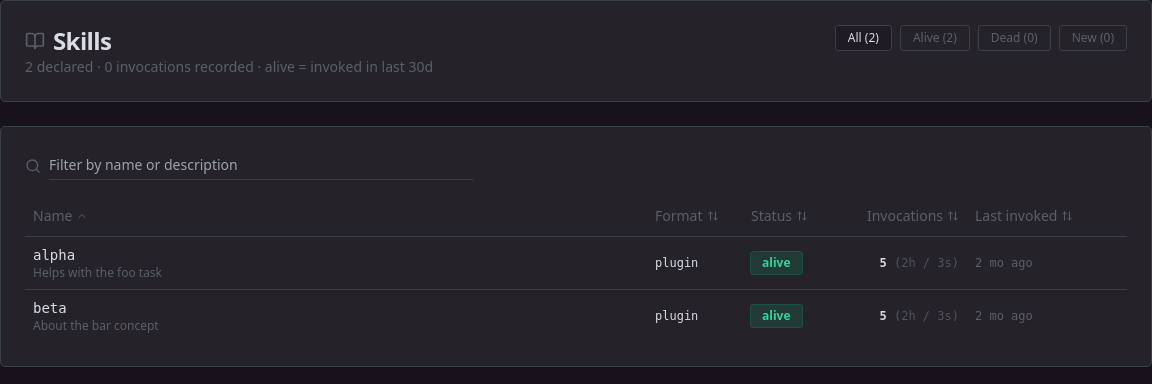
SkillsPage › search filters by name + description
Expected: the row with test id "skill-row-alpha" is shown, [25, 236, 1127, 289]
In the field with test id "skills-search": (261, 166) [49, 151, 473, 180], type "bar"
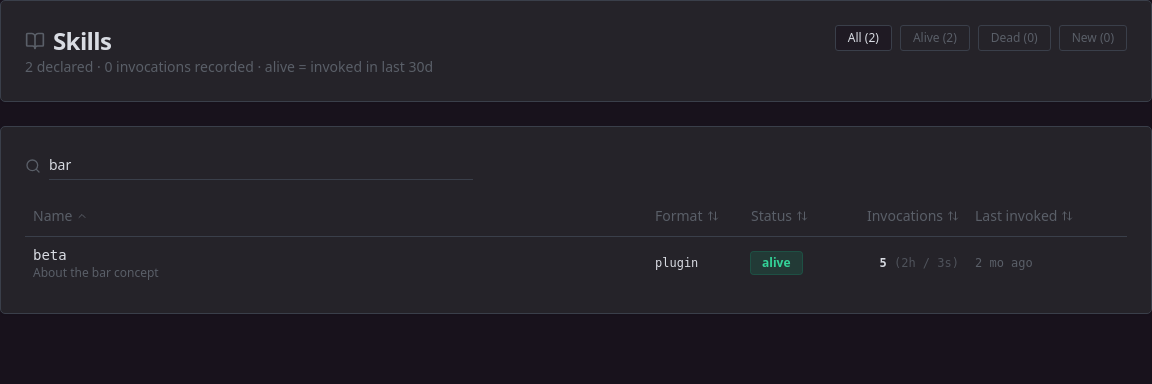
Expected: the row with test id "skill-row-beta" is shown, [25, 236, 1127, 288]
Expected: the row with test id "skill-row-alpha" is gone
